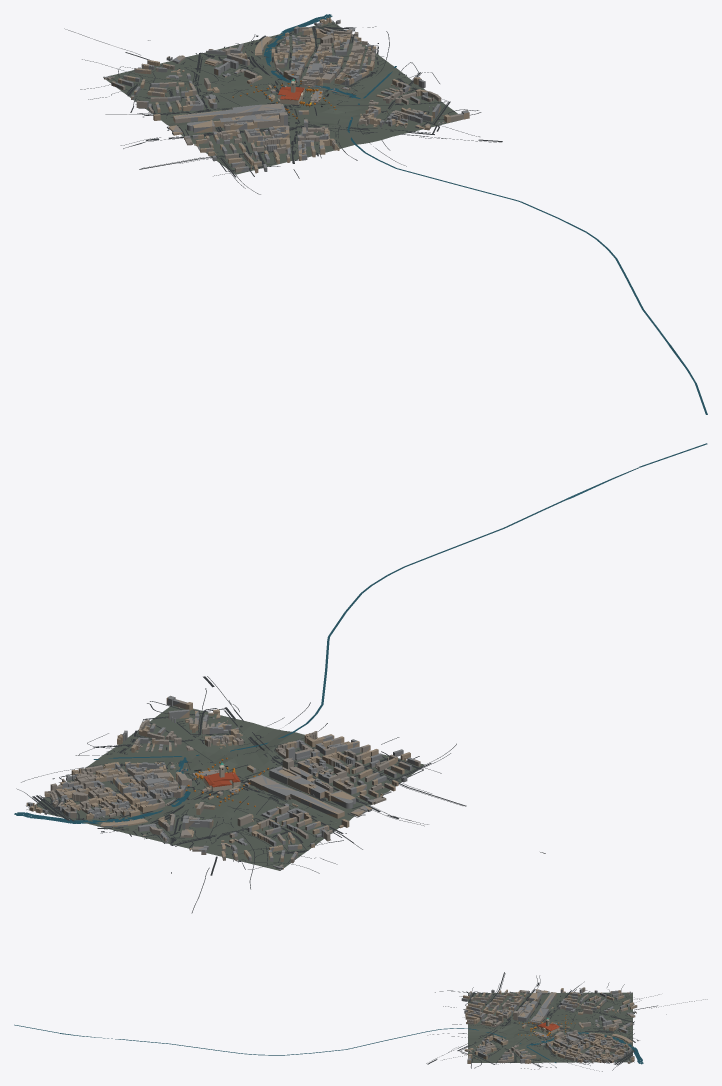
The model's file is SpandauStrike_Rathaus_FULLMAP_Visible.fbx.
The picture shows the model from 3 angles, top to bottom: view 1: azimuth 30°, elevation 25°; view 2: azimuth 150°, elevation 25°; view 3: azimuth 270°, elevation 25°; orthographic projection. The views are drawn at different scales.
Visible parts, largest first — view 1: FULLMAP_SurroundingBuildings, REAL_DGM_Terrain, REAL_OSM_Roads, FULLMAP_Water; view 2: FULLMAP_SurroundingBuildings, REAL_DGM_Terrain, REAL_OSM_Roads, FULLMAP_Water; view 3: FULLMAP_SurroundingBuildings, REAL_DGM_Terrain, REAL_OSM_Roads, FULLMAP_Water.
Part boxes in pixels (<box>): FULLMAP_SurroundingBuildings: <box>103,16,469,173</box>; REAL_DGM_Terrain: <box>106,21,460,174</box>; REAL_OSM_Roads: <box>64,20,502,194</box>; FULLMAP_Water: <box>264,14,707,414</box>; FULLMAP_SurroundingBuildings: <box>26,695,420,870</box>; REAL_DGM_Terrain: <box>29,705,424,870</box>; REAL_OSM_Roads: <box>16,676,545,913</box>; FULLMAP_Water: <box>14,443,707,823</box>; FULLMAP_SurroundingBuildings: <box>461,987,637,1063</box>; REAL_DGM_Terrain: <box>468,992,632,1062</box>; REAL_OSM_Roads: <box>426,972,707,1071</box>; FULLMAP_Water: <box>14,1024,643,1064</box>.
Size of the model in its own units: 1855 by 4201 by 88.35.
